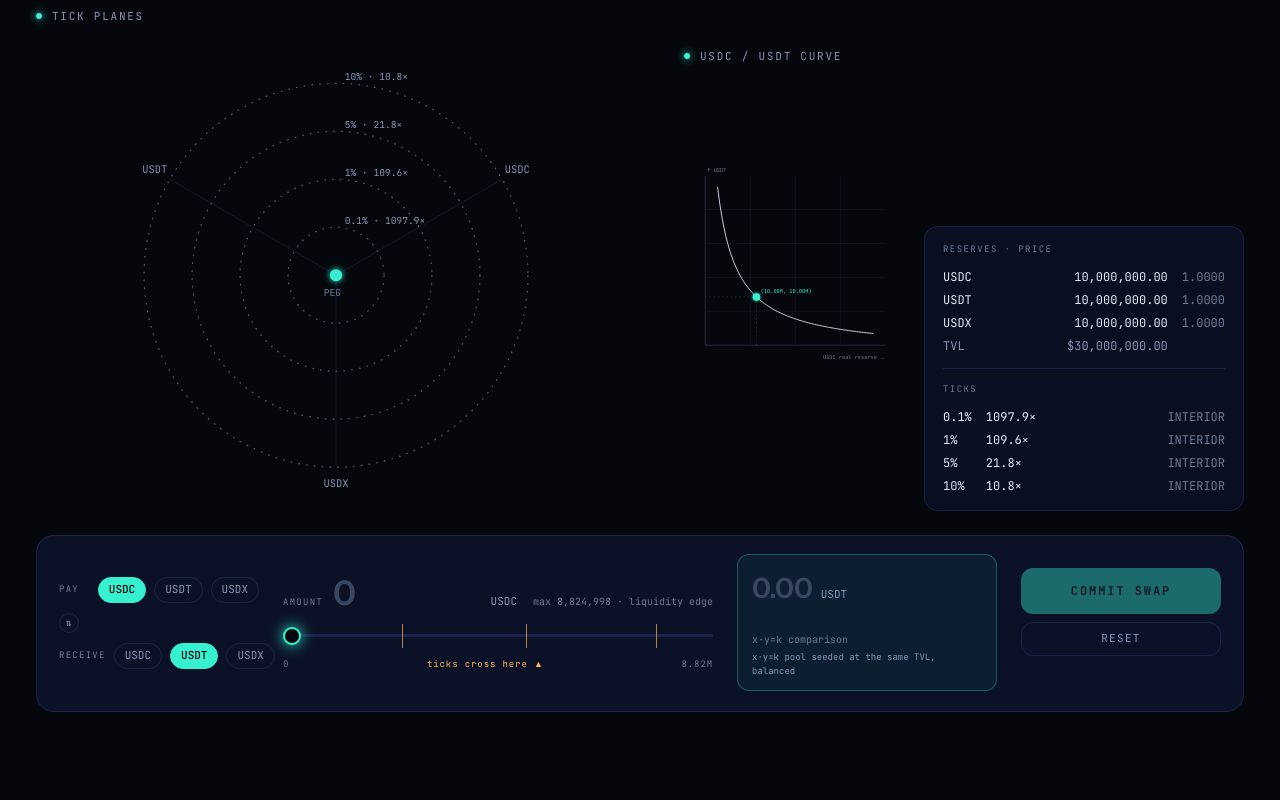
it: PoolView › shows the classic comparison and moves it with the slider
Expected: the text "$30,000,000.00" is shown, [1067,338,1168,354]
Type "6000000" into the field named "amount in".
click(407, 594); type("6000000")  # box [333,574,481,614]
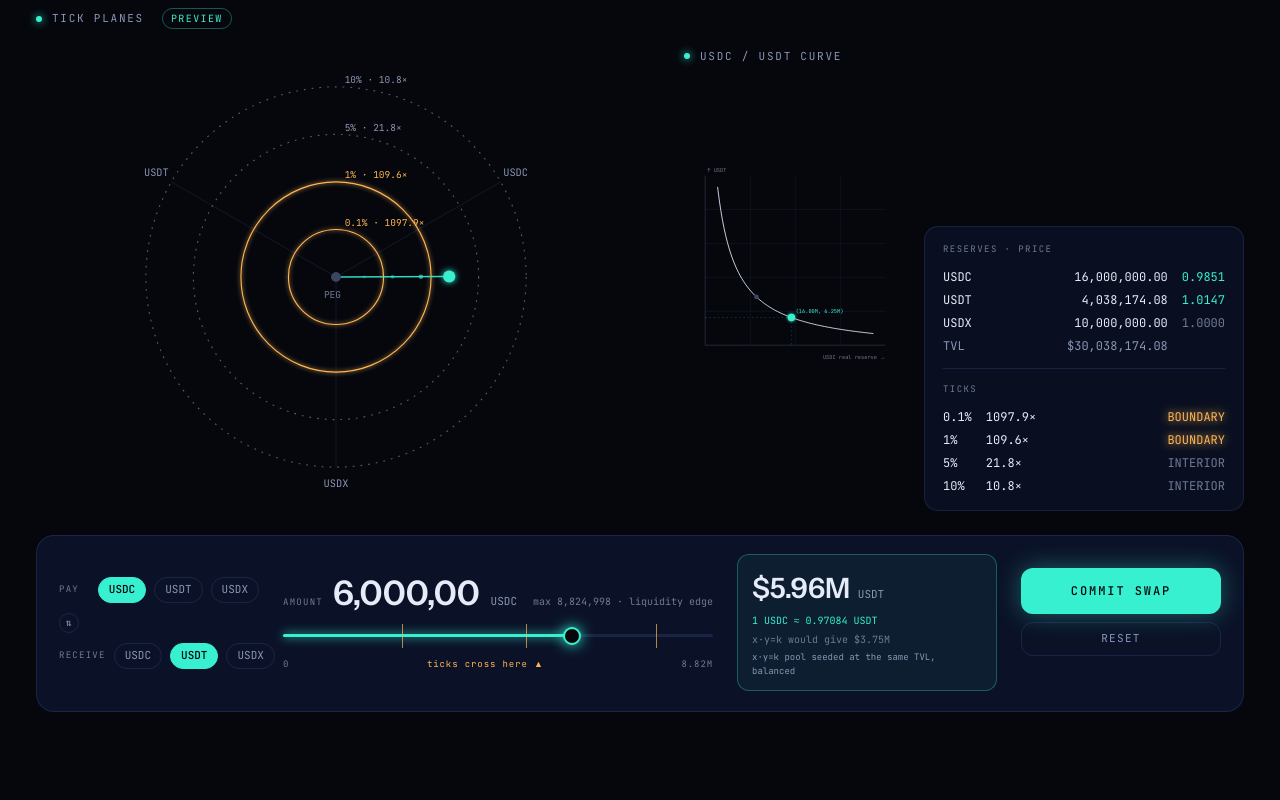
Now the text with test id "classic-out" shows "$", box [752,633,890,646]
